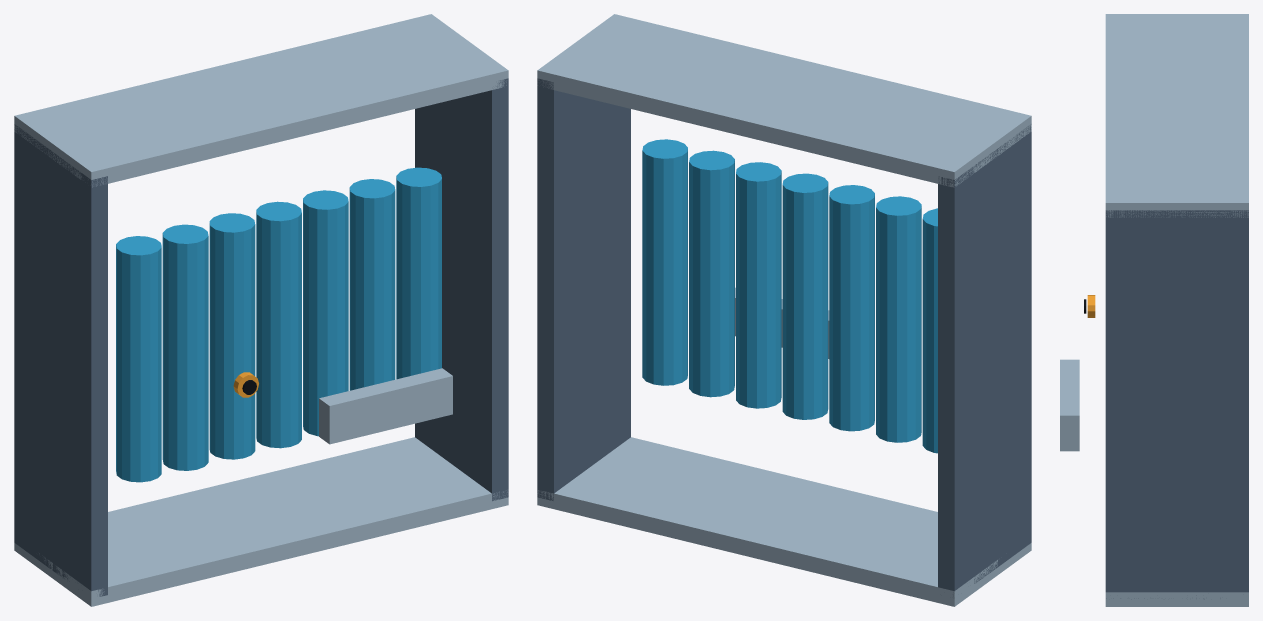
Rendered from 54_L88_RecoveredWaterFiltrationRack.fbx.
3 views of the same model, side by side, from view 1: azimuth 30°, elevation 25°; view 2: azimuth 150°, elevation 25°; view 3: azimuth 270°, elevation 25° (orthographic). The views are drawn at different scales.
Parts seen in each view (by area): view 1: L87_RecoveredWaterFiltrationRack_Part_0002, L87_RecoveredWaterFiltrationRack_Part_0001, L87_RecoveredWaterFiltrationRack_Part_0000, L87_RecoveredWaterFiltrationRack_Part_0003; view 2: L87_RecoveredWaterFiltrationRack_Part_0000, L87_RecoveredWaterFiltrationRack_Part_0001, L87_RecoveredWaterFiltrationRack_Part_0002; view 3: L87_RecoveredWaterFiltrationRack_Part_0000, L87_RecoveredWaterFiltrationRack_Part_0001, L87_RecoveredWaterFiltrationRack_Part_0003.
Boxes of the visible parts, x1=… form: L87_RecoveredWaterFiltrationRack_Part_0002: x1=116, y1=167, x2=441, y2=482; L87_RecoveredWaterFiltrationRack_Part_0001: x1=14, y1=14, x2=508, y2=606; L87_RecoveredWaterFiltrationRack_Part_0000: x1=14, y1=78, x2=508, y2=596; L87_RecoveredWaterFiltrationRack_Part_0003: x1=319, y1=368, x2=452, y2=444; L87_RecoveredWaterFiltrationRack_Part_0000: x1=537, y1=78, x2=1031, y2=596; L87_RecoveredWaterFiltrationRack_Part_0001: x1=537, y1=14, x2=1031, y2=606; L87_RecoveredWaterFiltrationRack_Part_0002: x1=642, y1=139, x2=937, y2=453; L87_RecoveredWaterFiltrationRack_Part_0000: x1=1105, y1=210, x2=1248, y2=599; L87_RecoveredWaterFiltrationRack_Part_0001: x1=1105, y1=14, x2=1248, y2=606; L87_RecoveredWaterFiltrationRack_Part_0003: x1=1060, y1=359, x2=1079, y2=451.
Size of the model in its own units: 250 by 249 by 106.
